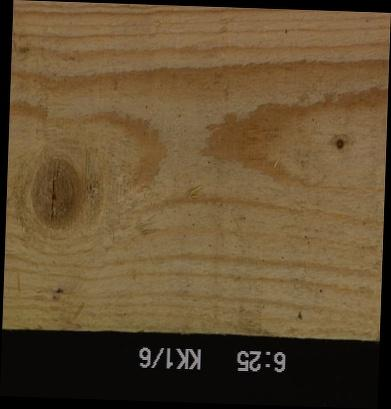small_knot: (331, 136, 347, 152)
sound_knot: (23, 151, 91, 233)
